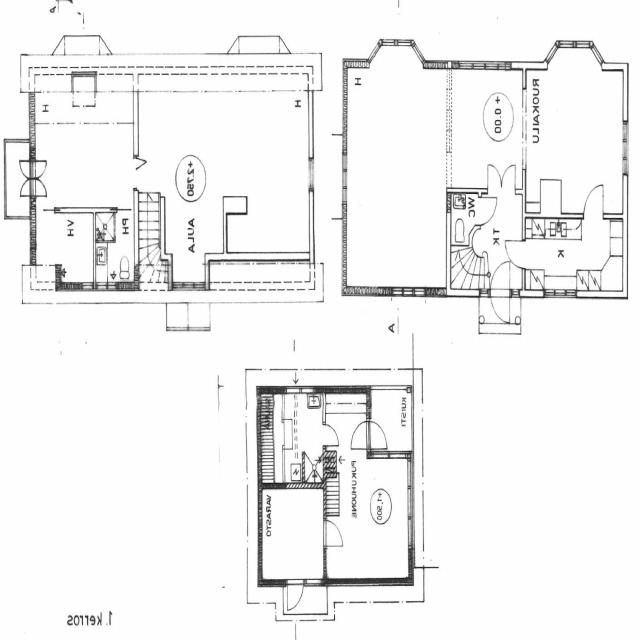door: (490, 255, 510, 296), (490, 286, 510, 327), (584, 184, 603, 218), (350, 421, 371, 448), (367, 421, 388, 448), (478, 197, 498, 224), (287, 579, 303, 612), (322, 521, 341, 545), (508, 241, 526, 265), (488, 166, 502, 193), (502, 166, 516, 193), (322, 424, 338, 445), (29, 179, 47, 197), (18, 179, 36, 197), (18, 161, 36, 179), (29, 161, 46, 179)
